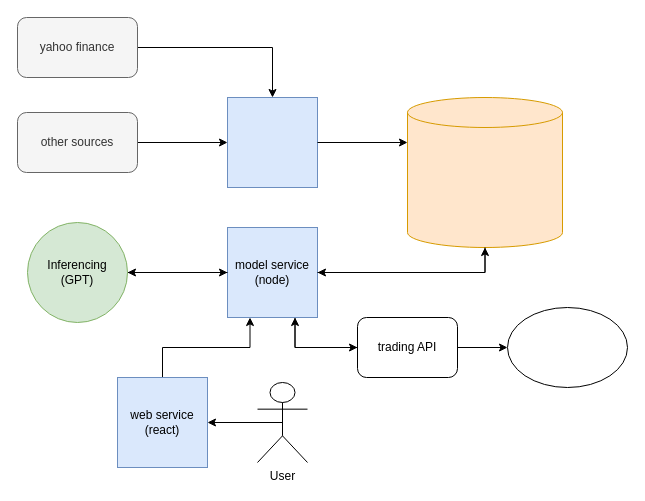
Image size: 645x501. Some labels were removed from this diagram. The shapes that lost their labels are listed below. From the top down, each one's box as (x1, y1, x2, y2) in pixels, then its label:
(226, 96, 318, 188): data service (node)
(406, 96, 562, 248): Database (MongoDB)
(506, 306, 628, 388): porfolio
